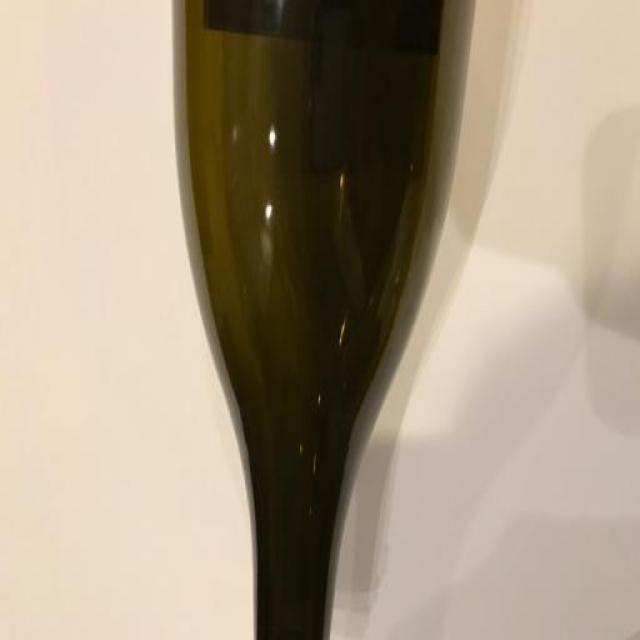glass: (152, 8, 447, 640)
